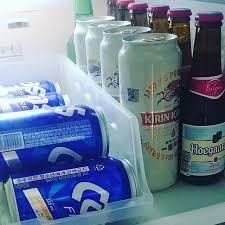beer: (76, 1, 225, 183), (1, 80, 140, 218)
